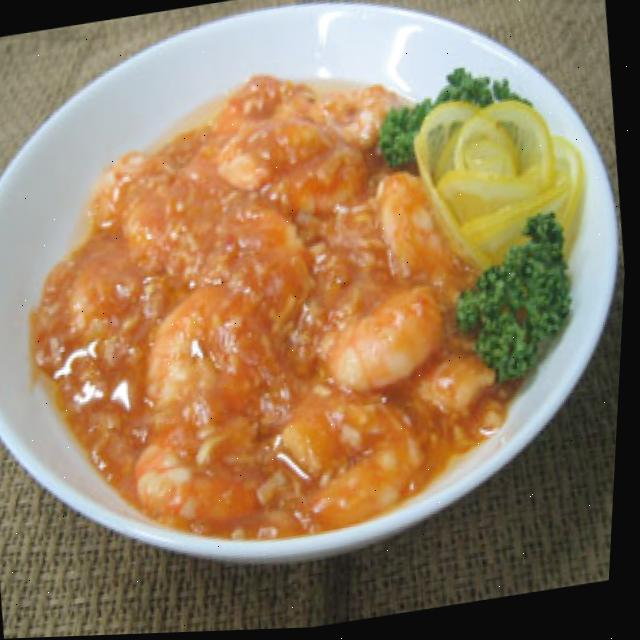熟制海鲜: (0, 0, 640, 613)
